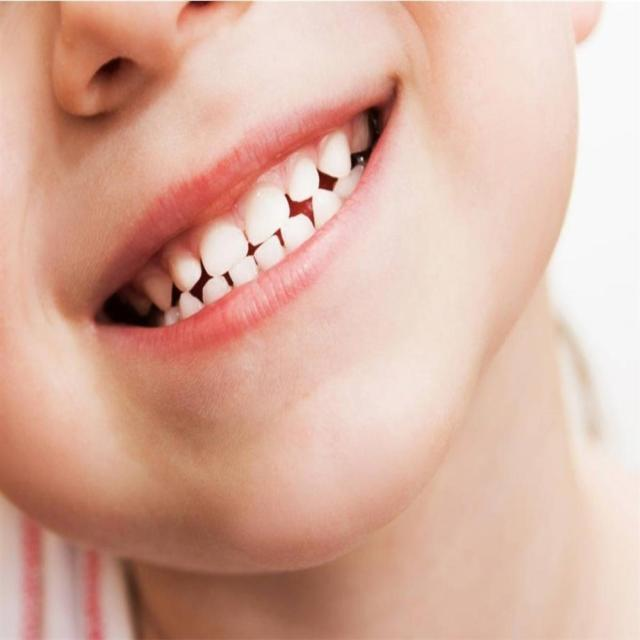tooth: (202, 230, 242, 271), (244, 195, 281, 227), (323, 138, 349, 182), (244, 242, 283, 263), (327, 168, 366, 189), (171, 258, 202, 283), (146, 270, 169, 302), (271, 226, 317, 242), (175, 281, 194, 319), (284, 168, 310, 195), (194, 280, 226, 300), (310, 198, 338, 219), (230, 263, 258, 283), (350, 127, 376, 148), (153, 308, 176, 328)
